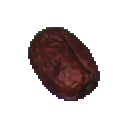ng: (21, 20, 109, 108)
